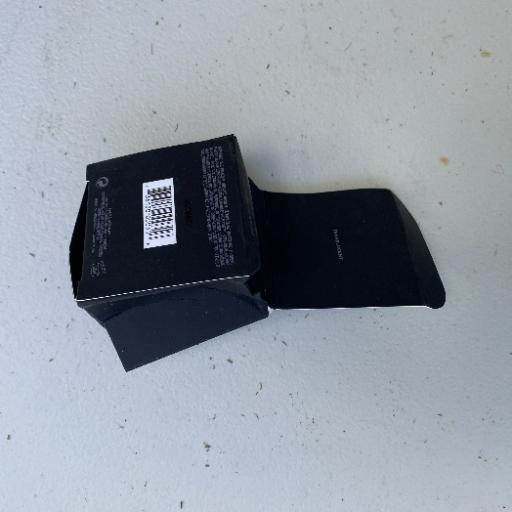Cardboard: (66, 131, 448, 373)
